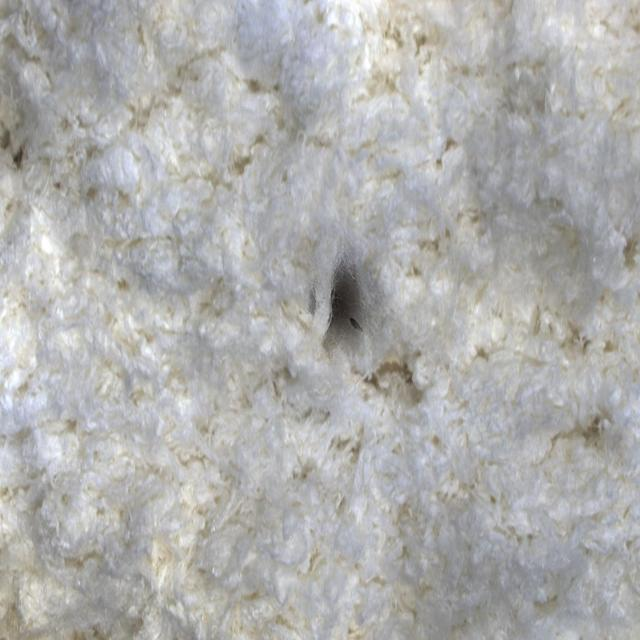dust: (285, 221, 416, 383)
